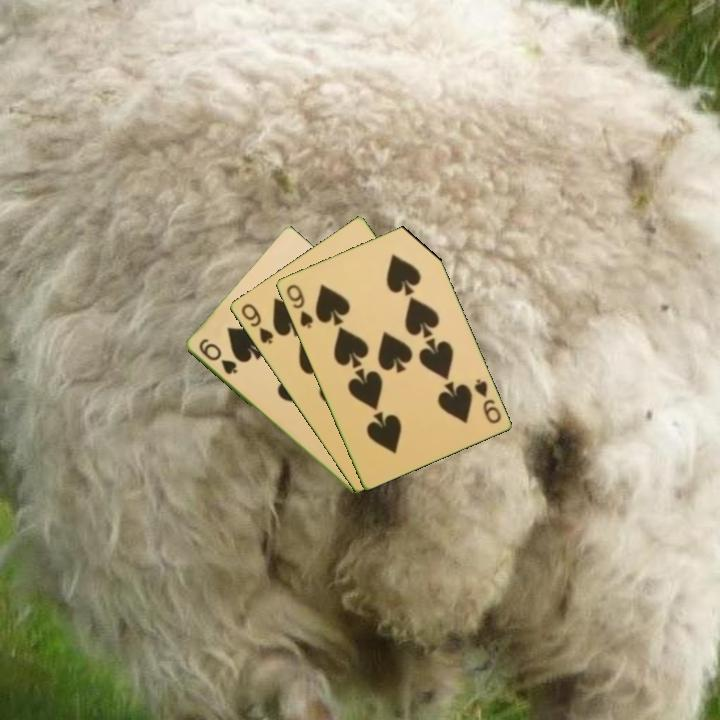6s: (195, 335, 240, 378)
9s: (237, 300, 276, 347), (470, 375, 504, 427), (282, 281, 316, 331)
